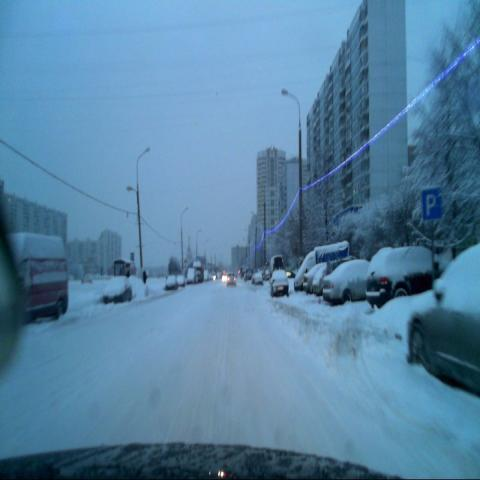6_4: (422, 186, 443, 220)
